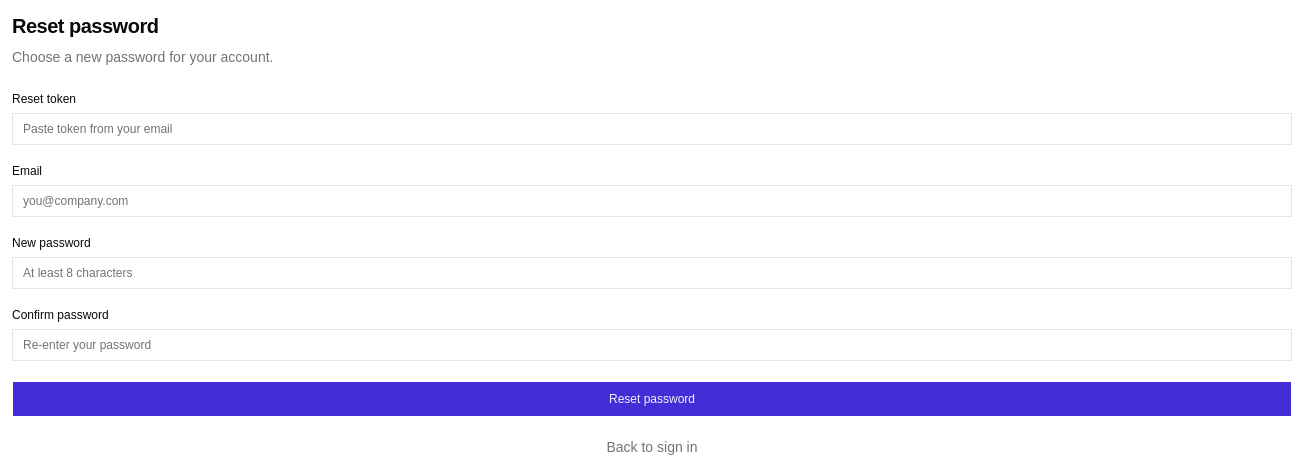
Scenario: ResetPasswordPage › shows success message after valid submit
Type "reset-token" into the field labelled "Reset token" at (652, 129), box [12,113,1292,145]
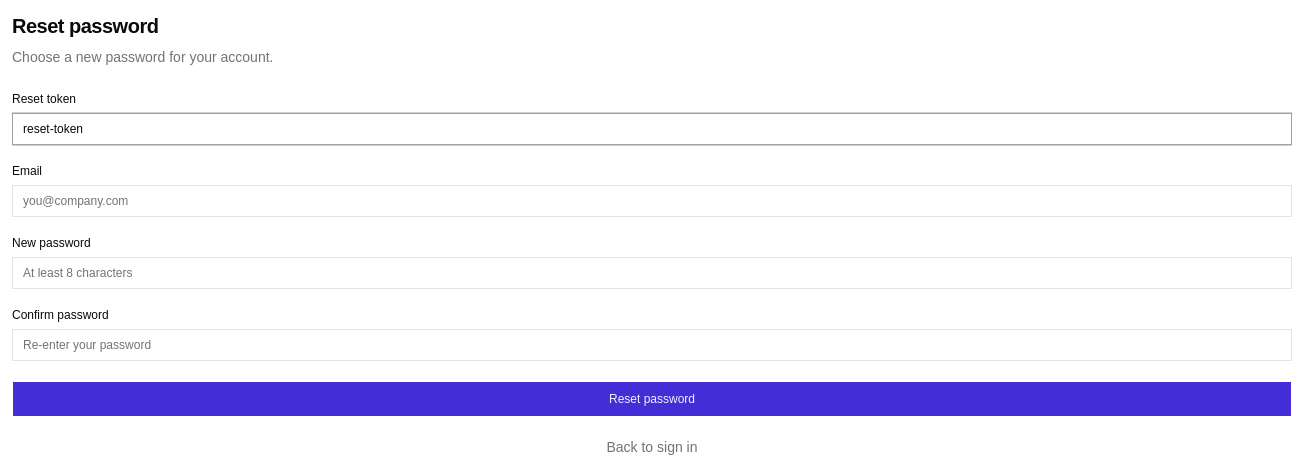
Type "jane@example.com" into the field labelled "Email" at (652, 201), box [12,185,1292,217]
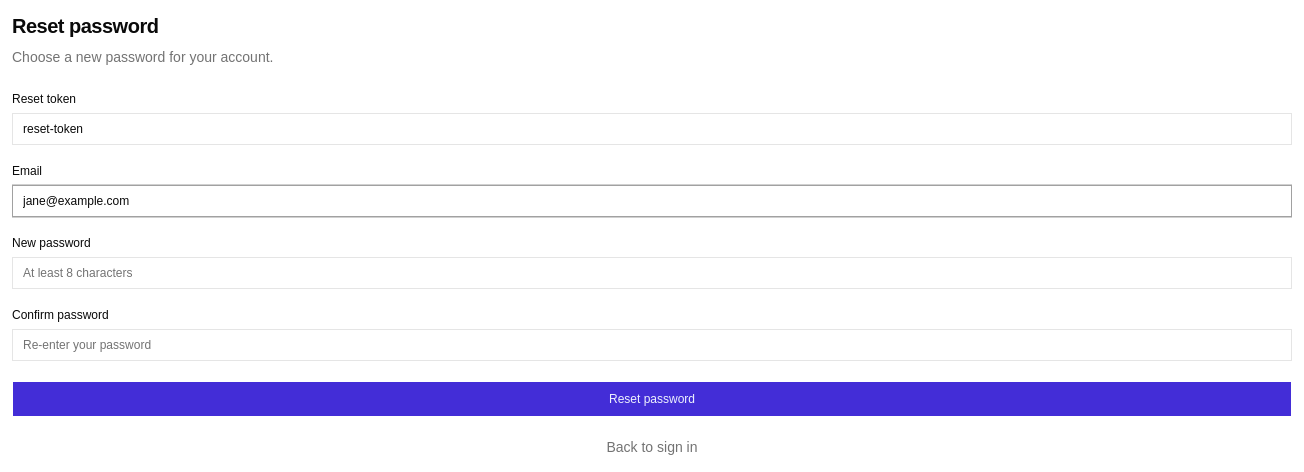
Type "password123" into the password field labelled "New password" at (652, 273), box [12,257,1292,289]
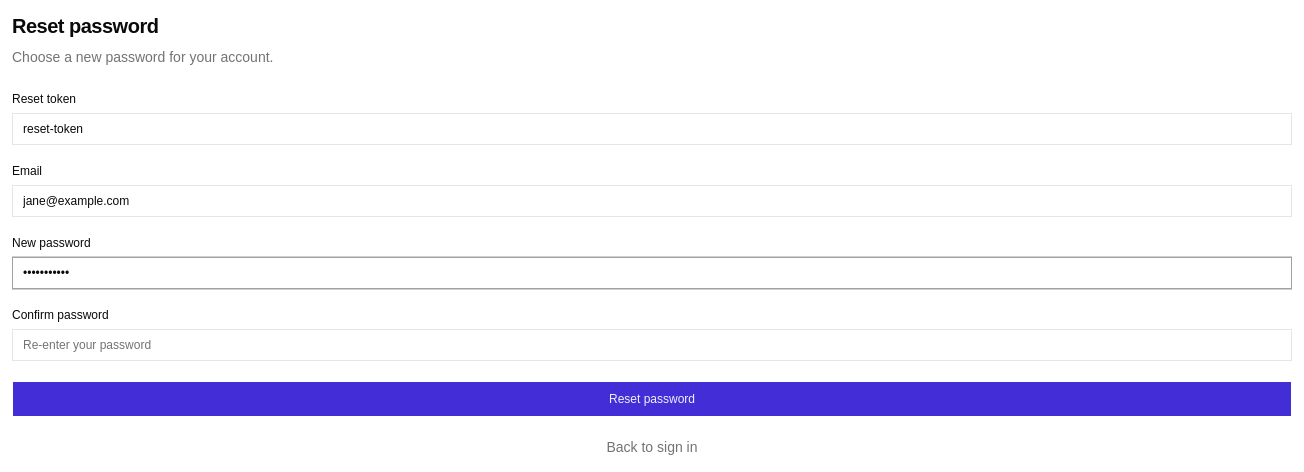
Type "password123" into the password field labelled "Confirm password" at (652, 345), box [12,329,1292,361]
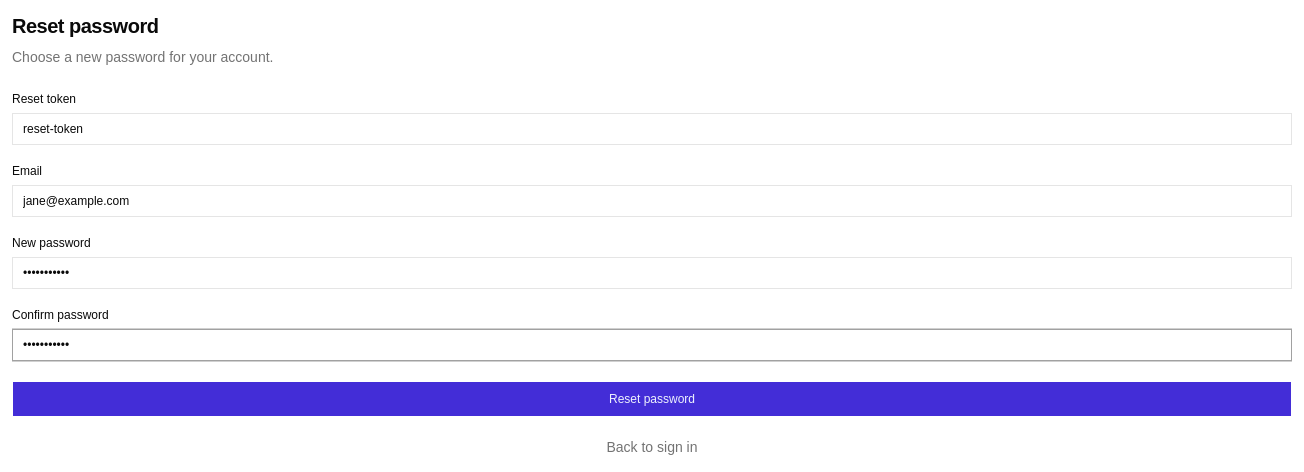
Click the button "Reset password" at (652, 399), box [12,381,1292,417]
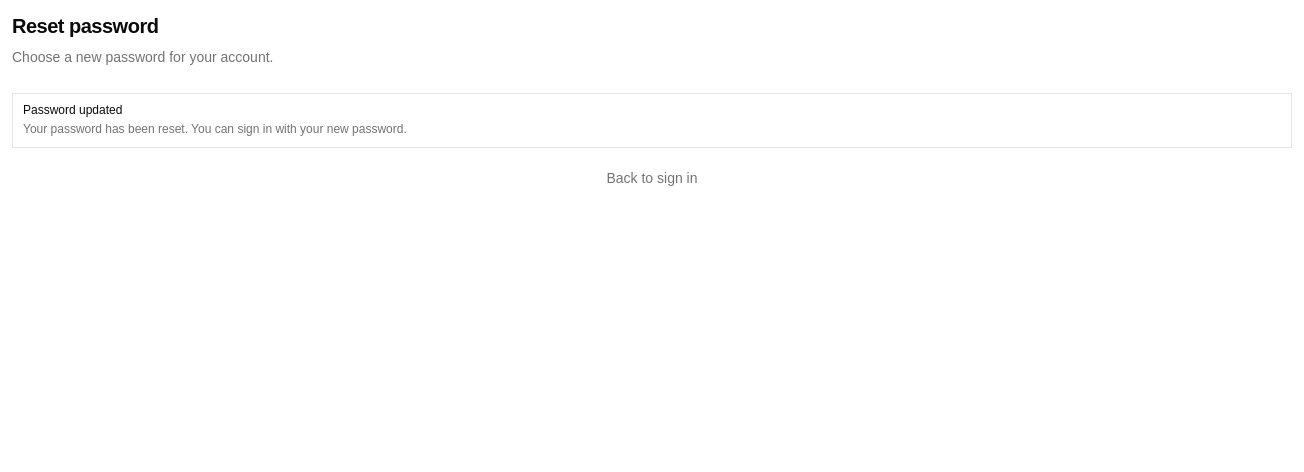
Check: the text "Password updated" is shown, box [23,103,122,117]
